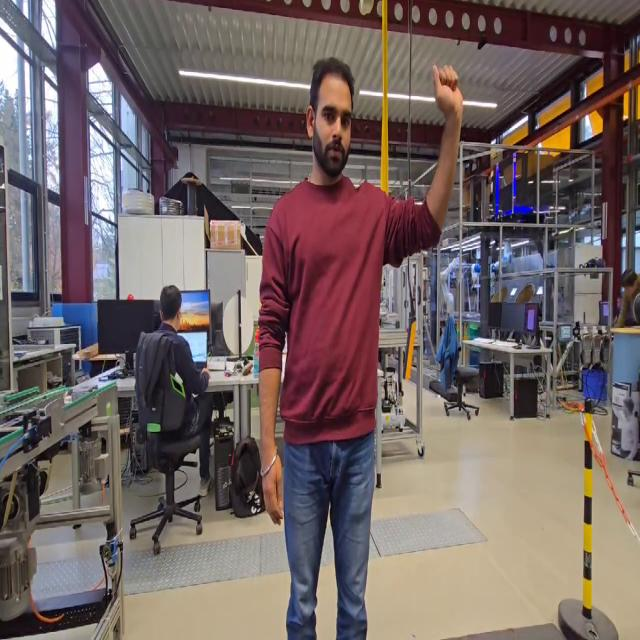closed_fist: (428, 59, 470, 130)
